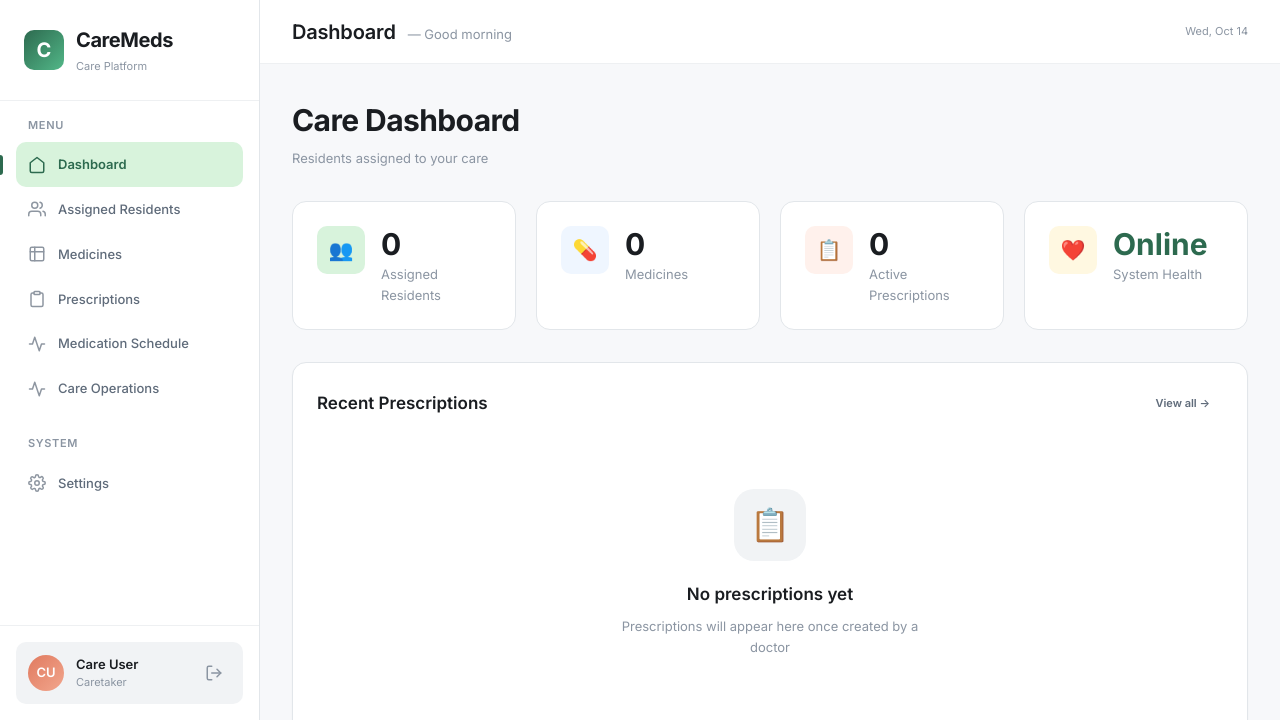
Test case: CareMeds role-based application surfaces › lets an assigned caretaker record a reasoned dose outcome
Expected: the heading "Care Dashboard" is shown, [292,96,520,144]
Click the button "Medication Schedule" at (130, 344), box [16,321,243,366]
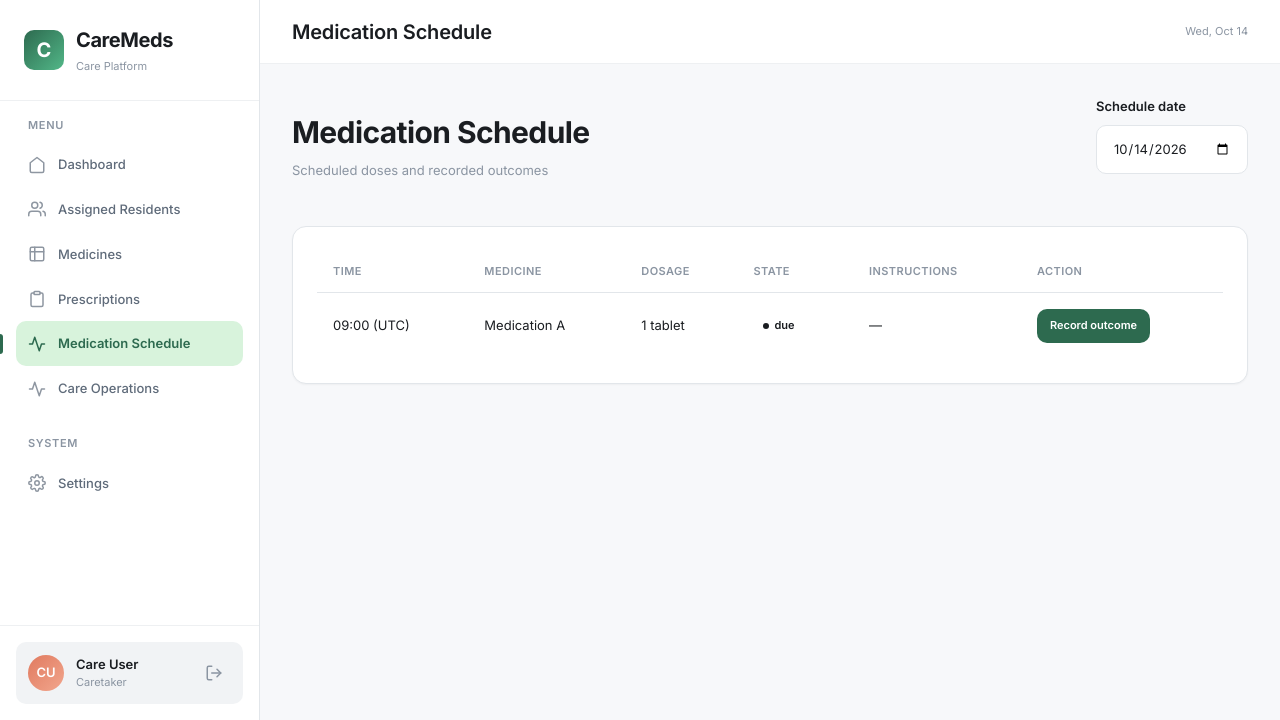
Result: the text "Medication A" is shown at [468,293,625,359]
Click the button "Record outcome" at (1094, 326), box [1037,309,1150,343]
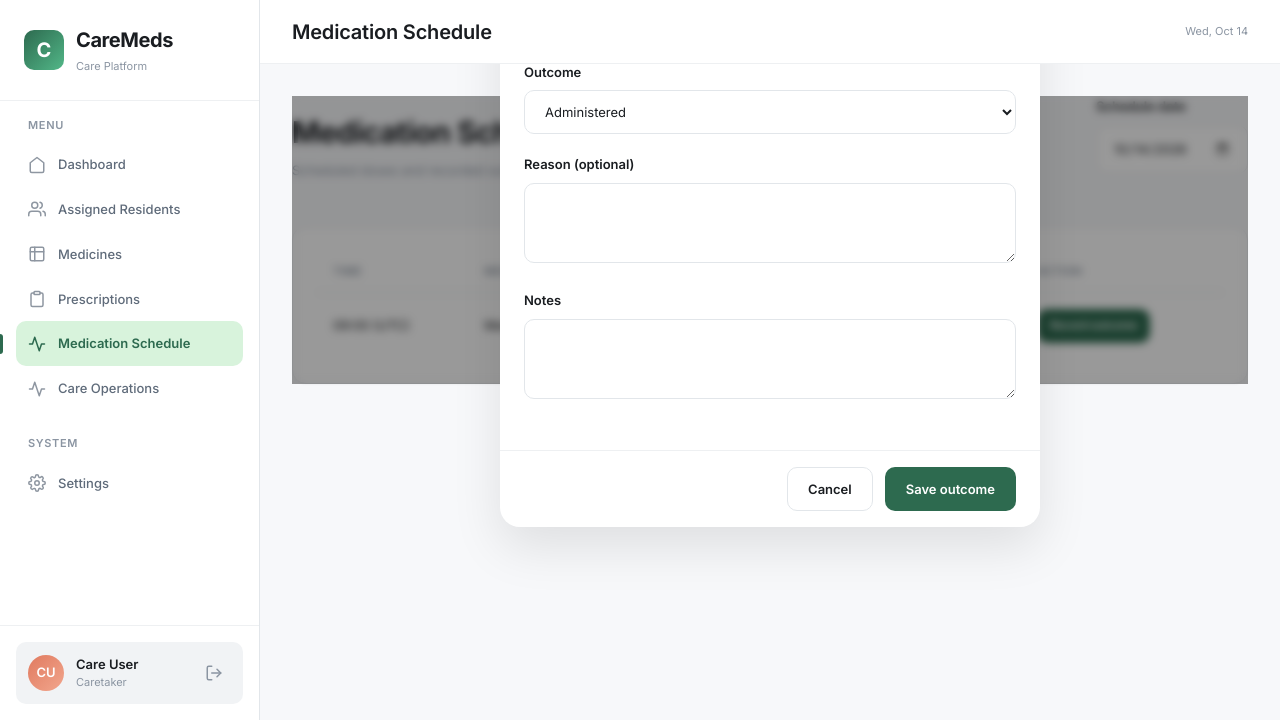
Select "Withheld" in the dropdown labelled "Outcome" at (770, 112), box [524,90,1016,134]
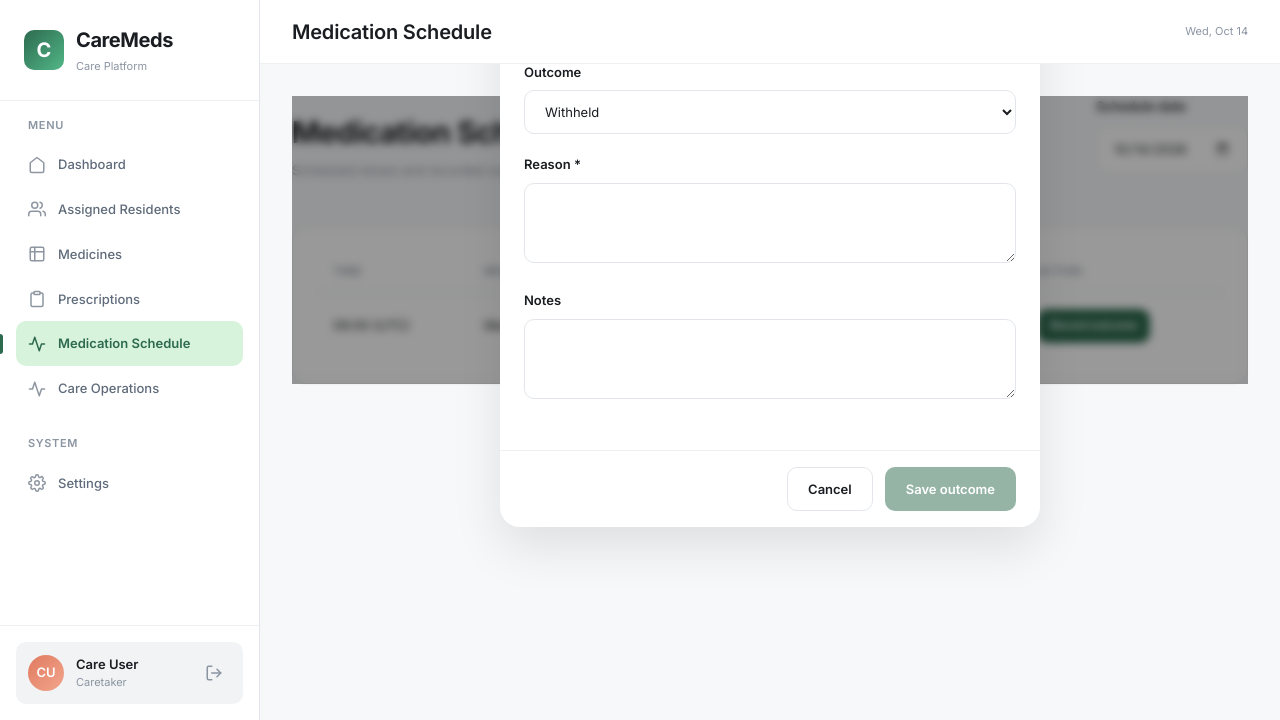
Type "Clinical review required" into the text box labelled "Reason *" at (770, 223), box [524,183,1016,263]
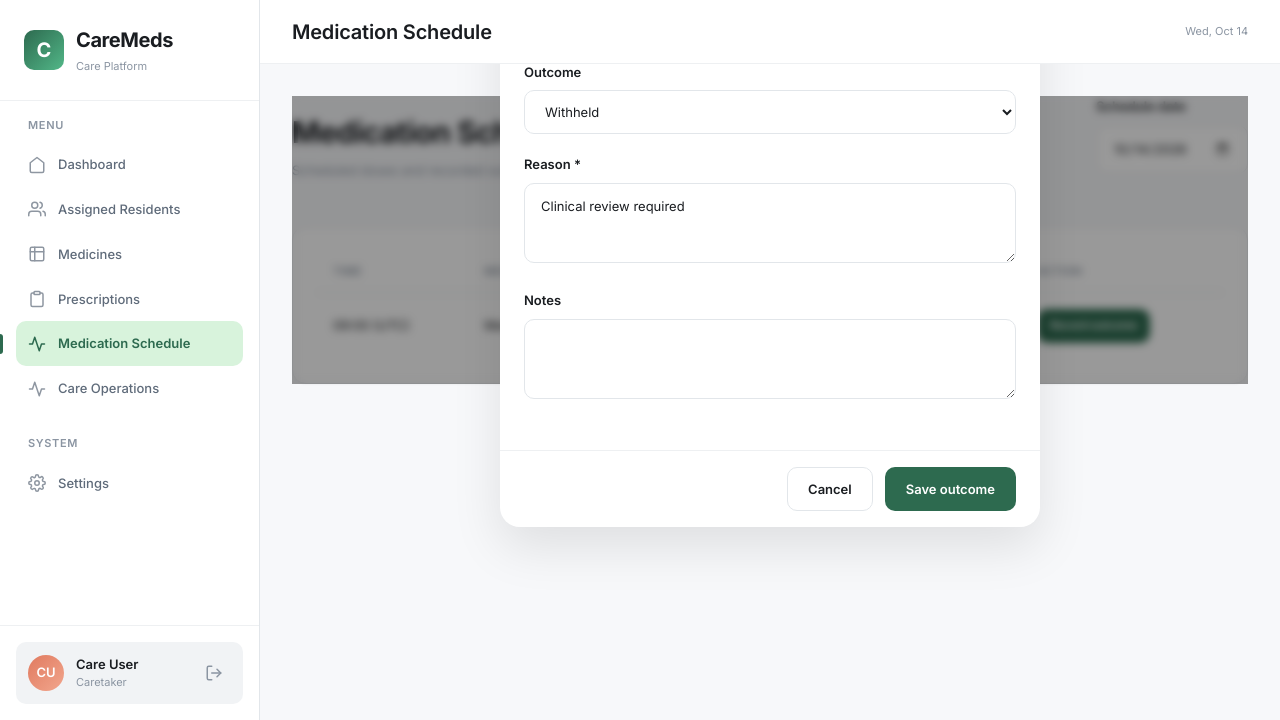
Click the button "Save outcome" at (950, 489), box [885,467,1016,511]
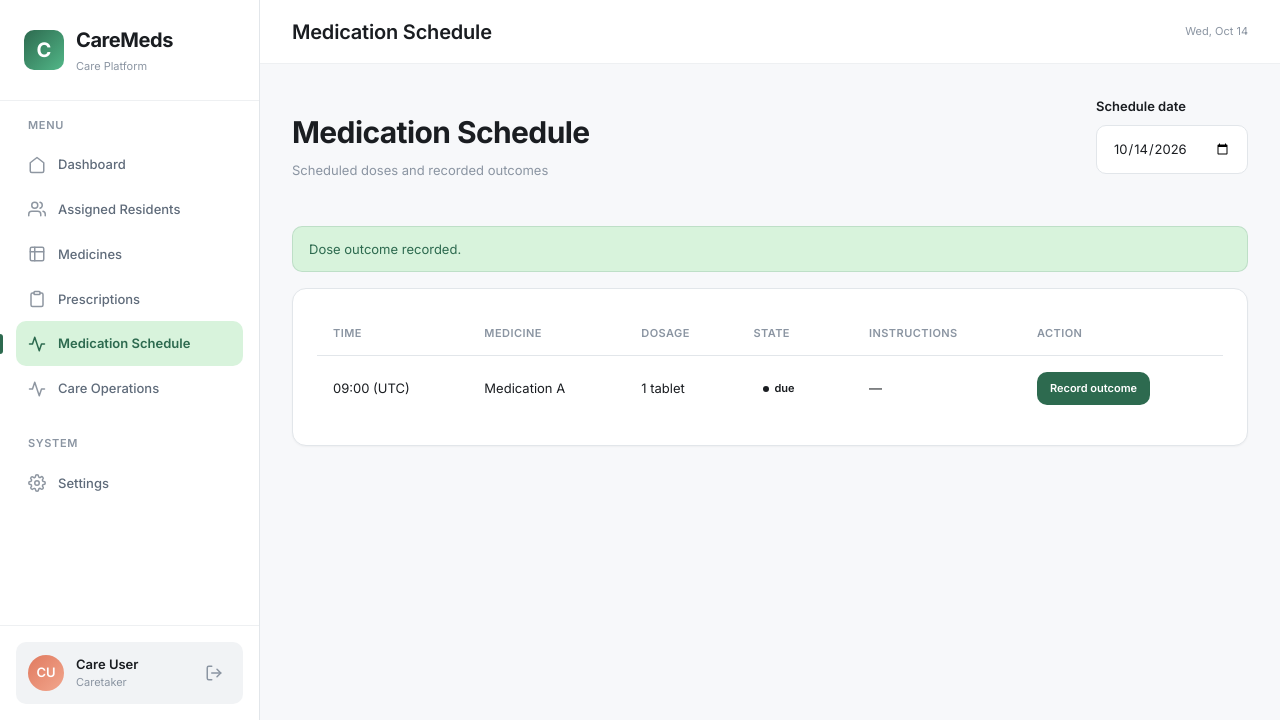
Result: the text "Dose outcome recorded." is shown at [292,226,1248,272]
